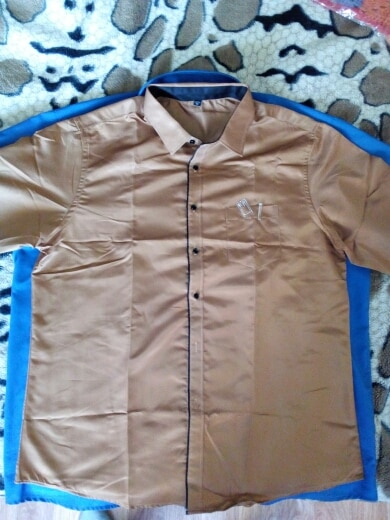shirts: (16, 89, 383, 504)
